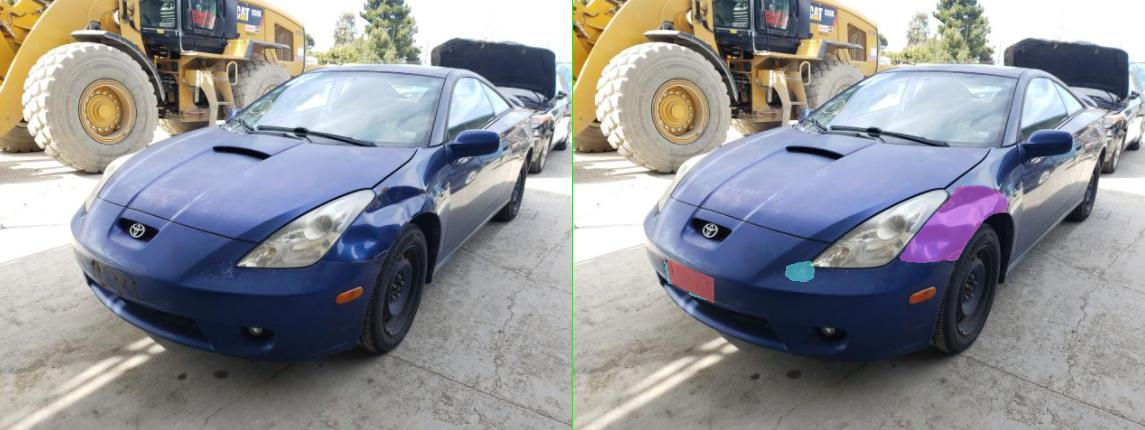Dent: (653, 186, 869, 262)
Flaking: (424, 261, 482, 281), (232, 276, 278, 301), (182, 261, 210, 284)
Missing part: (188, 259, 280, 302)
